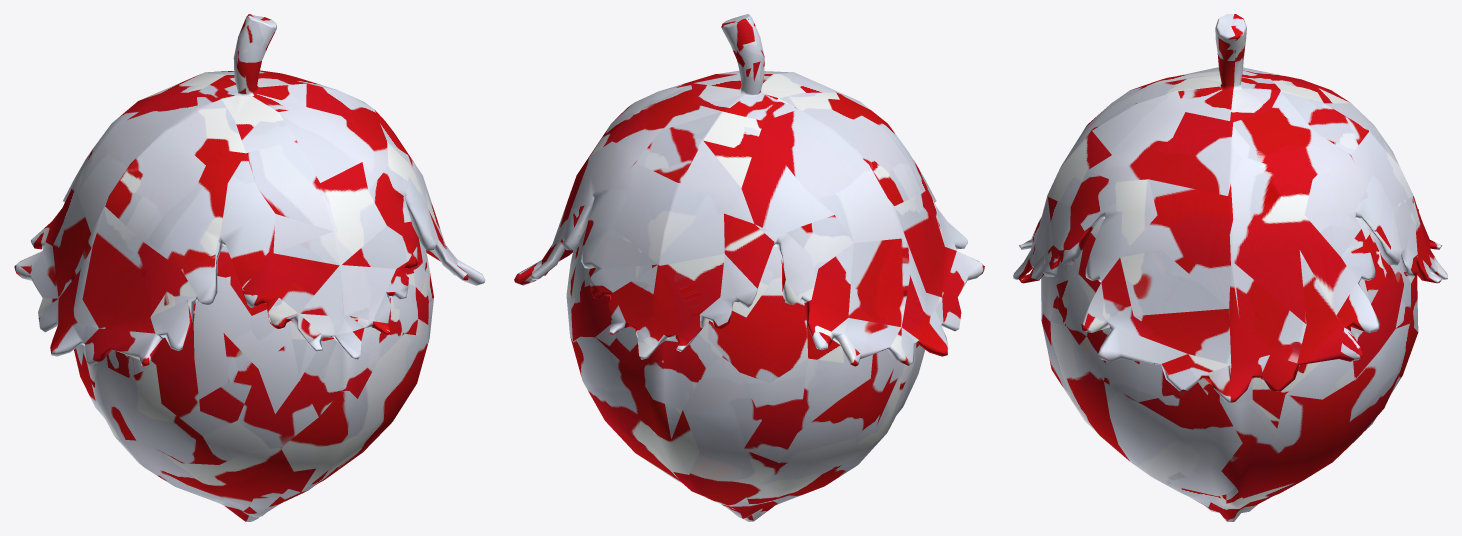
File: Findik.fbx
3 renders of one model, left to right at view 1: azimuth 30°, elevation 25°; view 2: azimuth 150°, elevation 25°; view 3: azimuth 270°, elevation 25°, orthographic.
Parts seen in each view (by area): view 1: Mesh_0; view 2: Mesh_0; view 3: Mesh_0.
Part boxes in pixels (x1=…): Mesh_0: x1=14, y1=14, x2=485, y2=521; Mesh_0: x1=514, y1=14, x2=984, y2=521; Mesh_0: x1=1013, y1=14, x2=1447, y2=521.
Bounding box in the file's own units: 78.52 × 95.07 × 73.78.
